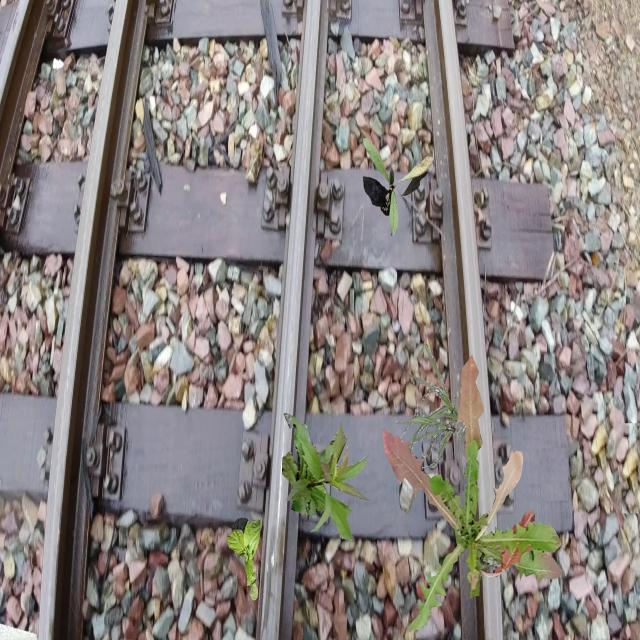Plant: (383, 355, 563, 633), (282, 413, 370, 543), (396, 344, 469, 468), (363, 138, 434, 238), (226, 517, 262, 600)
